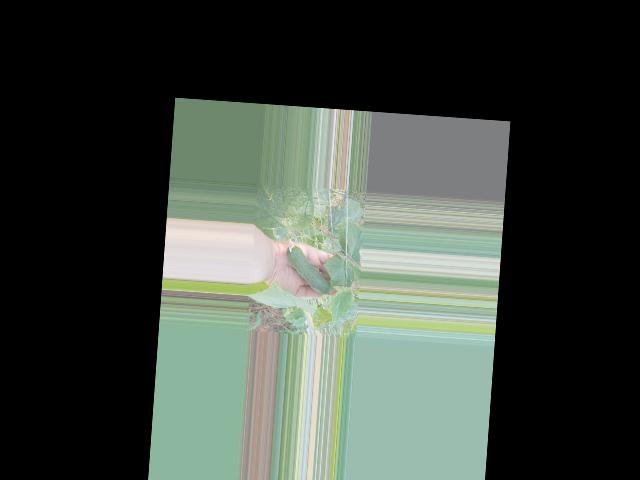cucumber: (283, 237, 334, 294)
